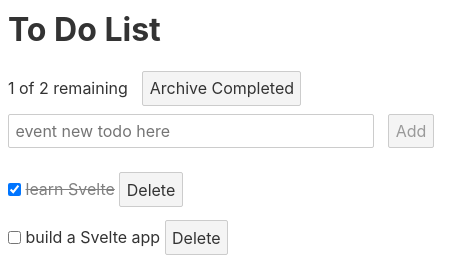
Test: Todo app › should delete todo
Expected: the text "1 of 2 remaining" is shown, [8, 78, 128, 98]
Expected: the text "learn Svelte" is shown, [26, 180, 115, 200]
Click the button "Delete" next to "learn Svelte" at (151, 190), box [119, 172, 182, 207]
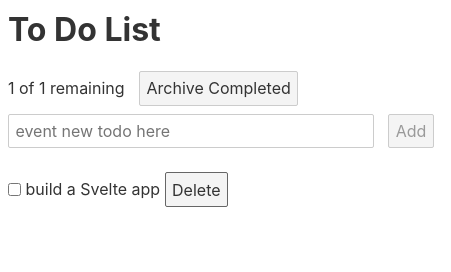
Expected: the text "learn Svelte" is gone
Expected: the text "1 of 1 remaining" is shown, [8, 78, 125, 98]
